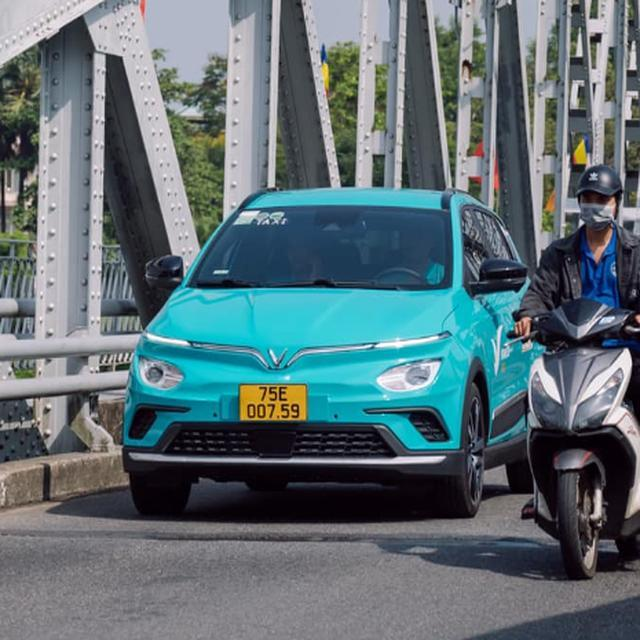car: (122, 185, 544, 531)
motorcycle: (513, 284, 639, 591)
plate: (233, 378, 313, 427)
